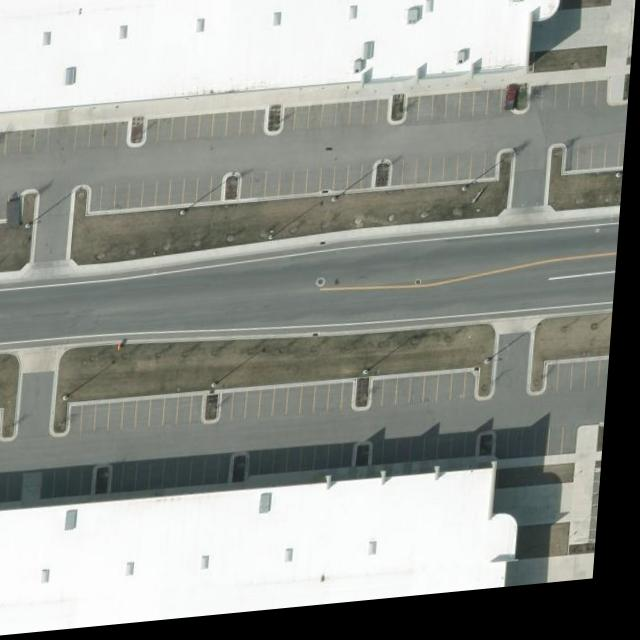vehicle: (505, 96, 521, 122)
